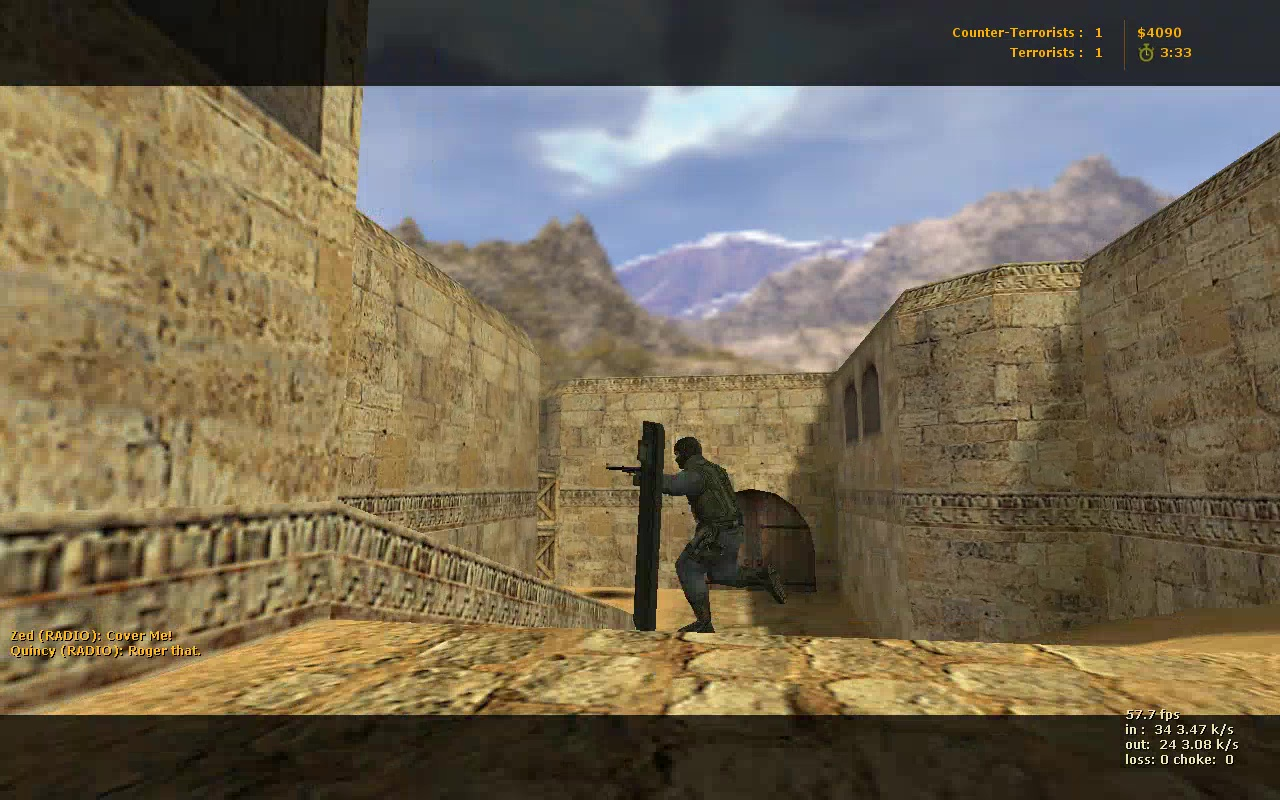ct: (633, 418, 788, 634)
